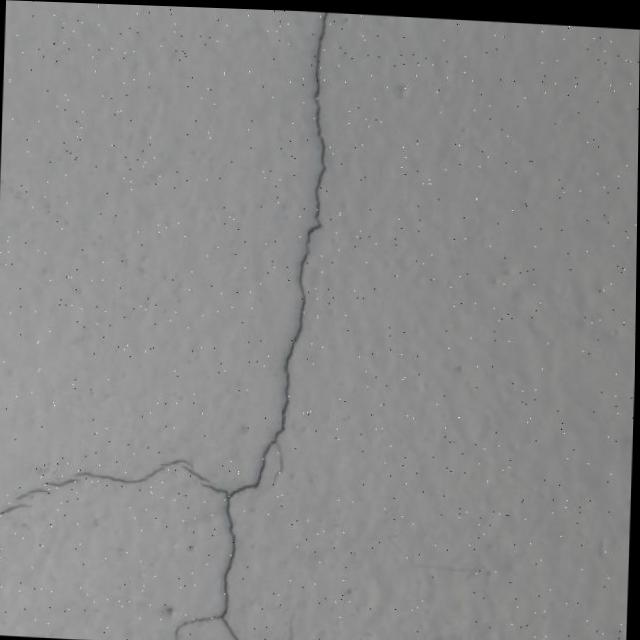Crack: (168, 5, 337, 640), (0, 440, 158, 551)
